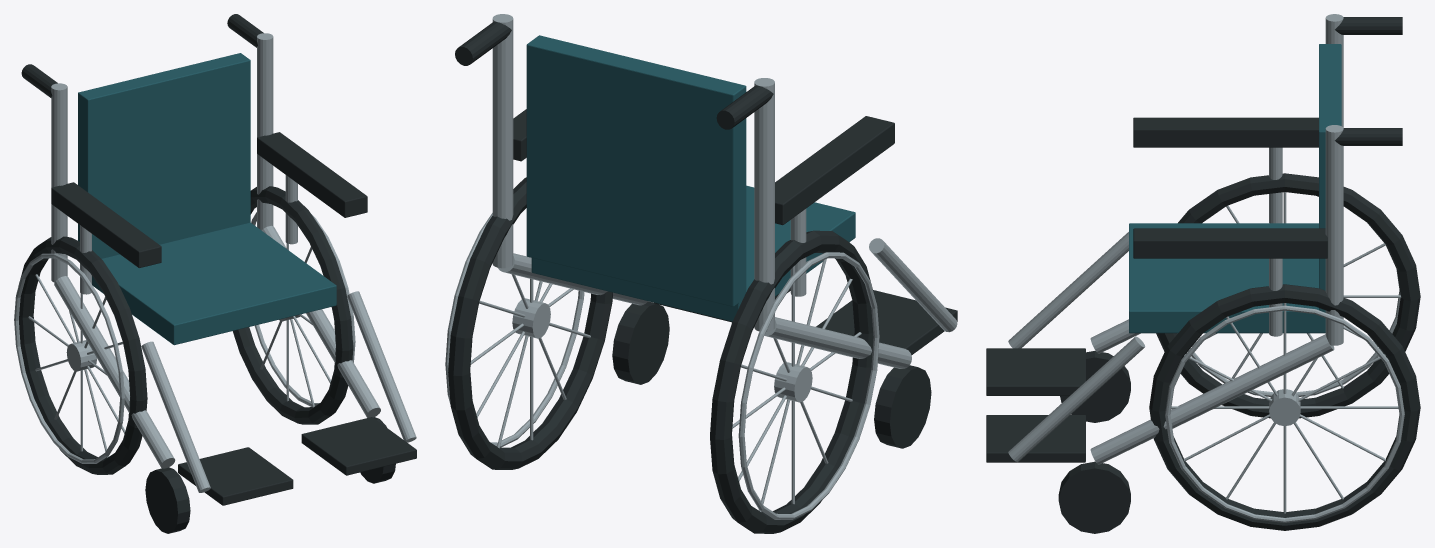
File: wheelchair.glb
3 renders of one model, left to right at view 1: azimuth 30°, elevation 25°; view 2: azimuth 150°, elevation 25°; view 3: azimuth 270°, elevation 25°, orthographic. The views are drawn at different scales.
Visible parts, largest first — view 1: Backrest, Seat, Rear_Wheel.001, Rear_Wheel, Footplate.001, Armrest, Armrest.001, Footplate, Frame, Push_Rim.001, Back_Frame, Back_Frame.001 (+11 smaller); view 2: Backrest, Rear_Wheel.001, Rear_Wheel, Seat, Armrest.001, Back_Frame, Back_Frame.001, Push_Rim.001, Front_Caster.001, Front_Caster, Footplate, Frame (+9 smaller); view 3: Rear_Wheel, Seat, Rear_Wheel.001, Armrest, Armrest.001, Footplate, Frame.001, Front_Caster.001, Push_Rim, Footplate.001, Back_Frame, Backrest (+11 smaller).
Part boxes in pixels (x1,y1,x2,y2): Backrest: (78, 53, 250, 258); Seat: (92, 222, 336, 345); Rear_Wheel.001: (19, 236, 147, 474); Rear_Wheel: (232, 186, 353, 424); Footplate.001: (301, 417, 416, 475); Armrest: (257, 132, 367, 217); Armrest.001: (51, 182, 161, 267); Footplate: (178, 447, 293, 505); Frame: (54, 276, 175, 468); Push_Rim.001: (14, 253, 124, 463); Back_Frame: (257, 33, 273, 230); Back_Frame.001: (51, 83, 67, 282); Backrest: (526, 35, 746, 306); Rear_Wheel.001: (710, 230, 874, 533); Rear_Wheel: (448, 177, 612, 469); Seat: (531, 185, 855, 321); Armrest.001: (775, 116, 894, 225); Back_Frame: (492, 14, 513, 268); Back_Frame.001: (754, 78, 774, 331); Push_Rim.001: (738, 252, 879, 519); Front_Caster.001: (612, 301, 669, 384); Front_Caster: (874, 365, 931, 448); Footplate: (816, 290, 957, 355); Frame: (764, 317, 911, 368); Rear_Wheel: (1149, 284, 1420, 530); Seat: (1129, 223, 1325, 333); Rear_Wheel.001: (1156, 173, 1420, 418); Armrest: (1133, 228, 1327, 258); Armrest.001: (1133, 117, 1318, 147); Footplate: (986, 348, 1085, 395); Frame.001: (1090, 334, 1334, 464); Front_Caster.001: (1058, 461, 1130, 533); Push_Rim: (1165, 305, 1404, 522); Footplate.001: (986, 415, 1085, 462); Back_Frame: (1325, 125, 1343, 345); Backrest: (1319, 44, 1341, 312).
Bounding box in the file's own units: 0.662 × 0.98 × 0.96.
